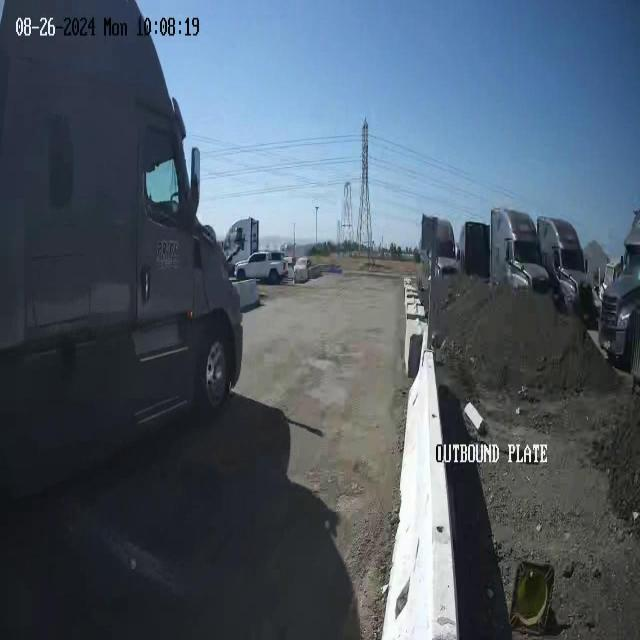TRUCK_IN: (1, 0, 244, 498)
